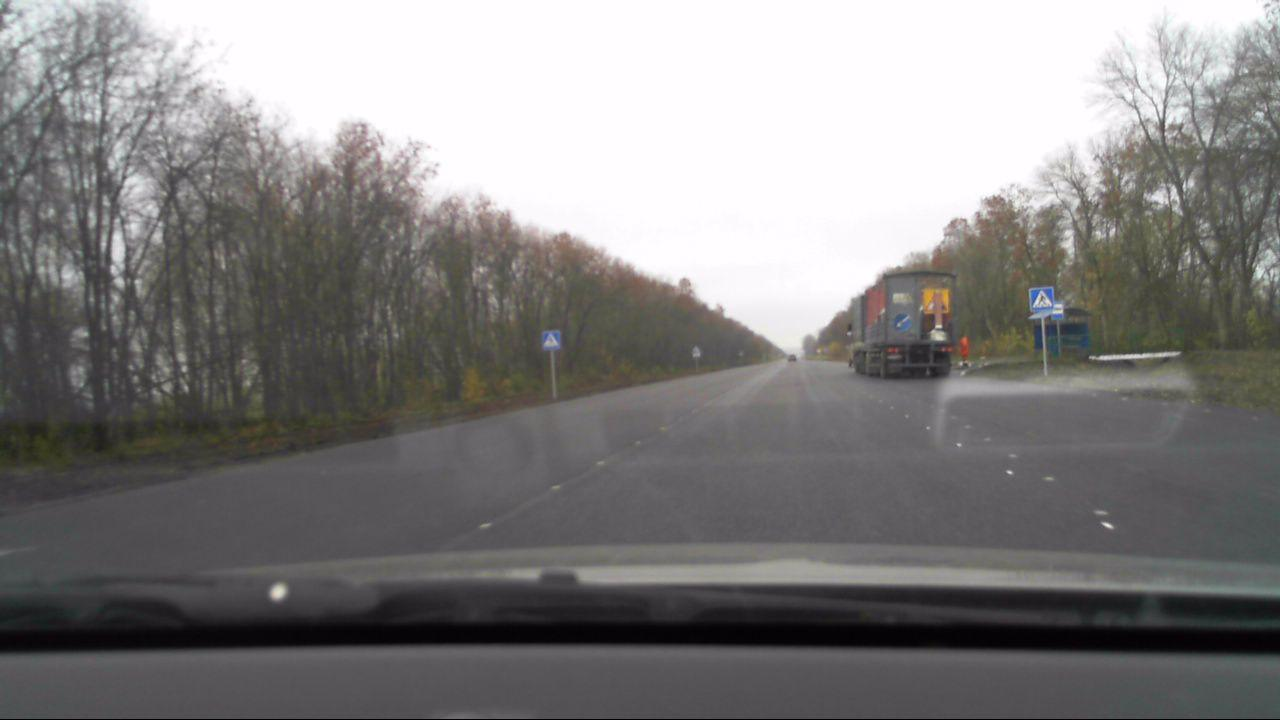4_2_2: (892, 313, 915, 334)
5_16: (1052, 302, 1066, 319)
5_19_1: (1028, 285, 1055, 312)
5_19_2: (542, 329, 562, 349)
